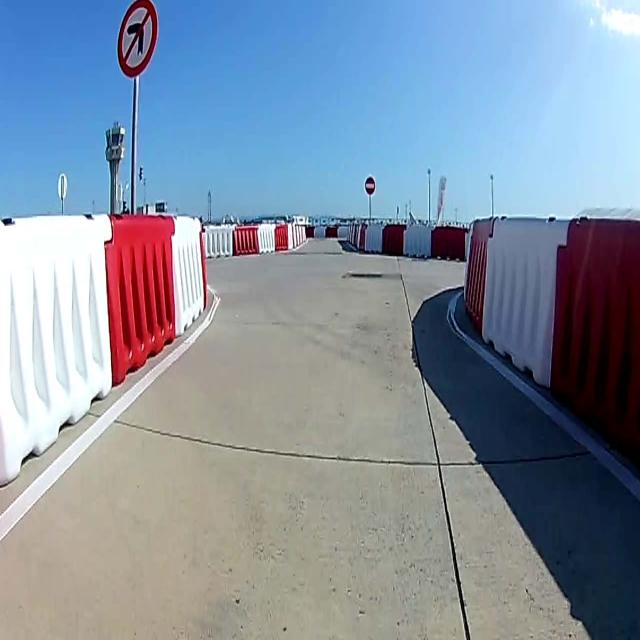girisyok: (364, 174, 376, 196)
soladonulmez: (115, 1, 158, 78)
